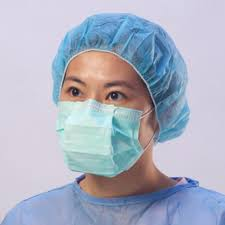mask: (52, 41, 150, 182)
